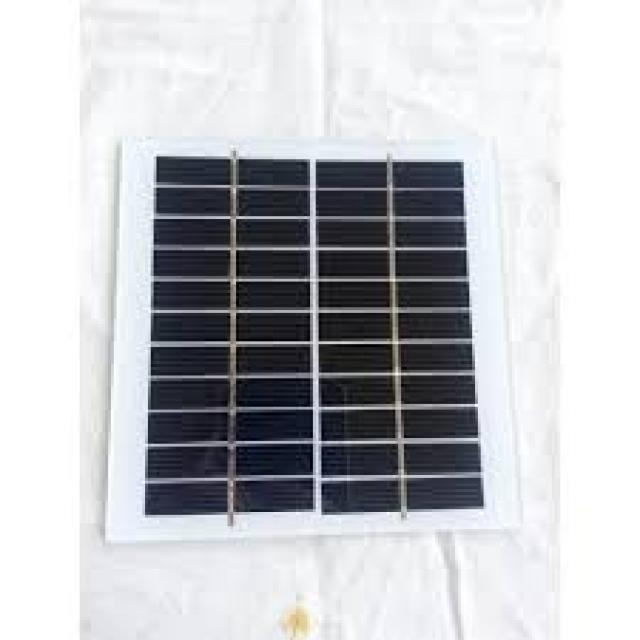no faulty: (147, 155, 488, 512)
